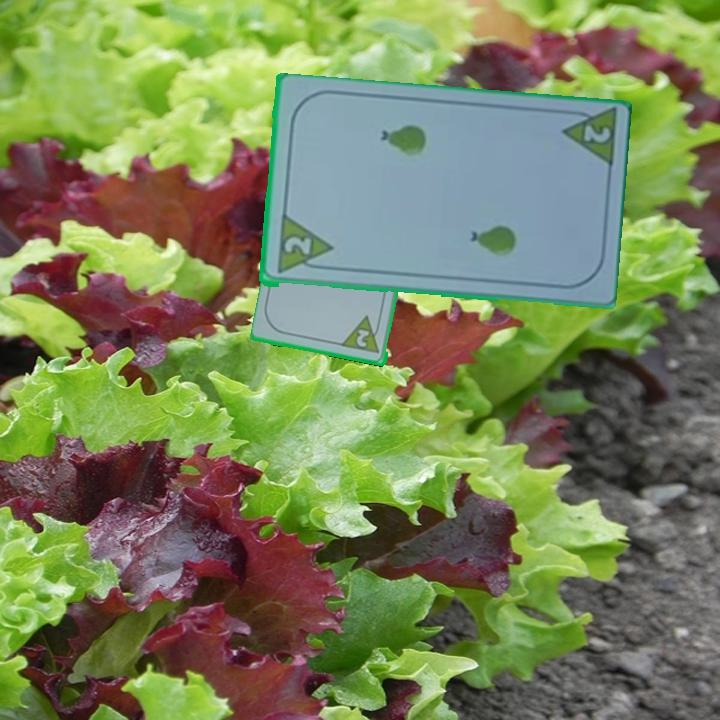2p: (557, 107, 618, 173), (273, 214, 334, 277), (340, 313, 384, 357)
